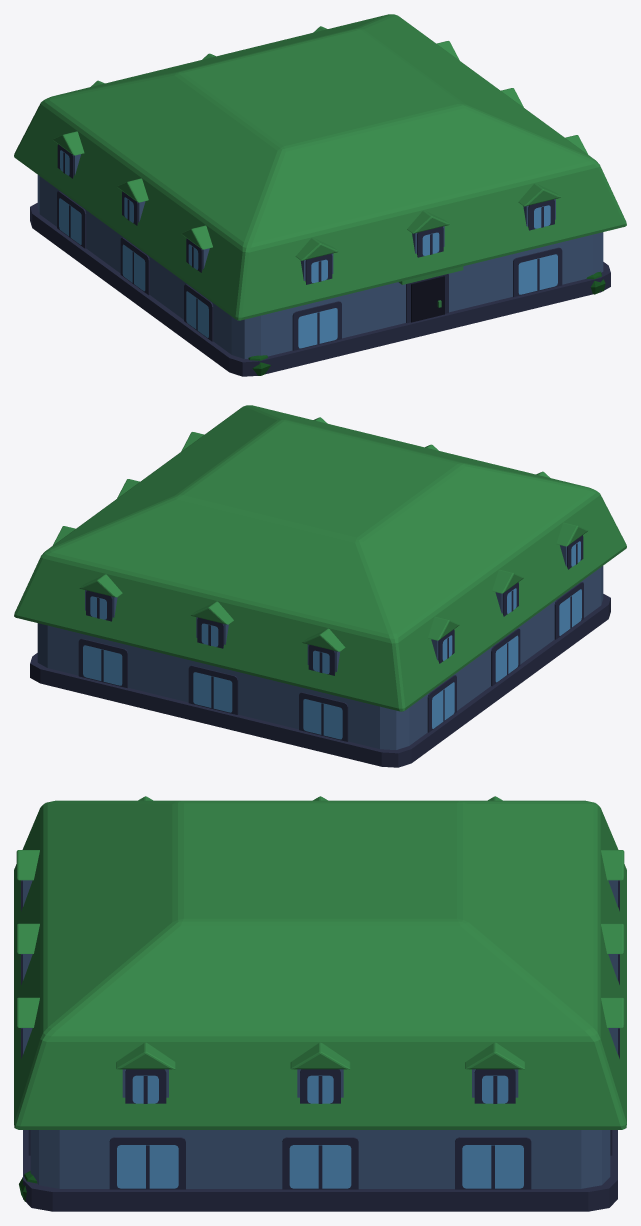
File: house-2x2-1f-mansard-b.glb
3 views of the same model, one above another, from view 1: azimuth 30°, elevation 25°; view 2: azimuth 150°, elevation 25°; view 3: azimuth 270°, elevation 25° (orthographic). The views are drawn at different scales.
Parts seen in each view (by area): view 1: house-2x2-1f-mansard-b; view 2: house-2x2-1f-mansard-b; view 3: house-2x2-1f-mansard-b.
Boxes of the visible parts, x1,y1,x2,y2 form: house-2x2-1f-mansard-b: [14, 14, 626, 376]; house-2x2-1f-mansard-b: [14, 405, 626, 767]; house-2x2-1f-mansard-b: [14, 796, 626, 1211].
Bounding box in the file's own units: 1.99 × 0.8052 × 1.99.
Materials: 1 (1 with a texture image).
